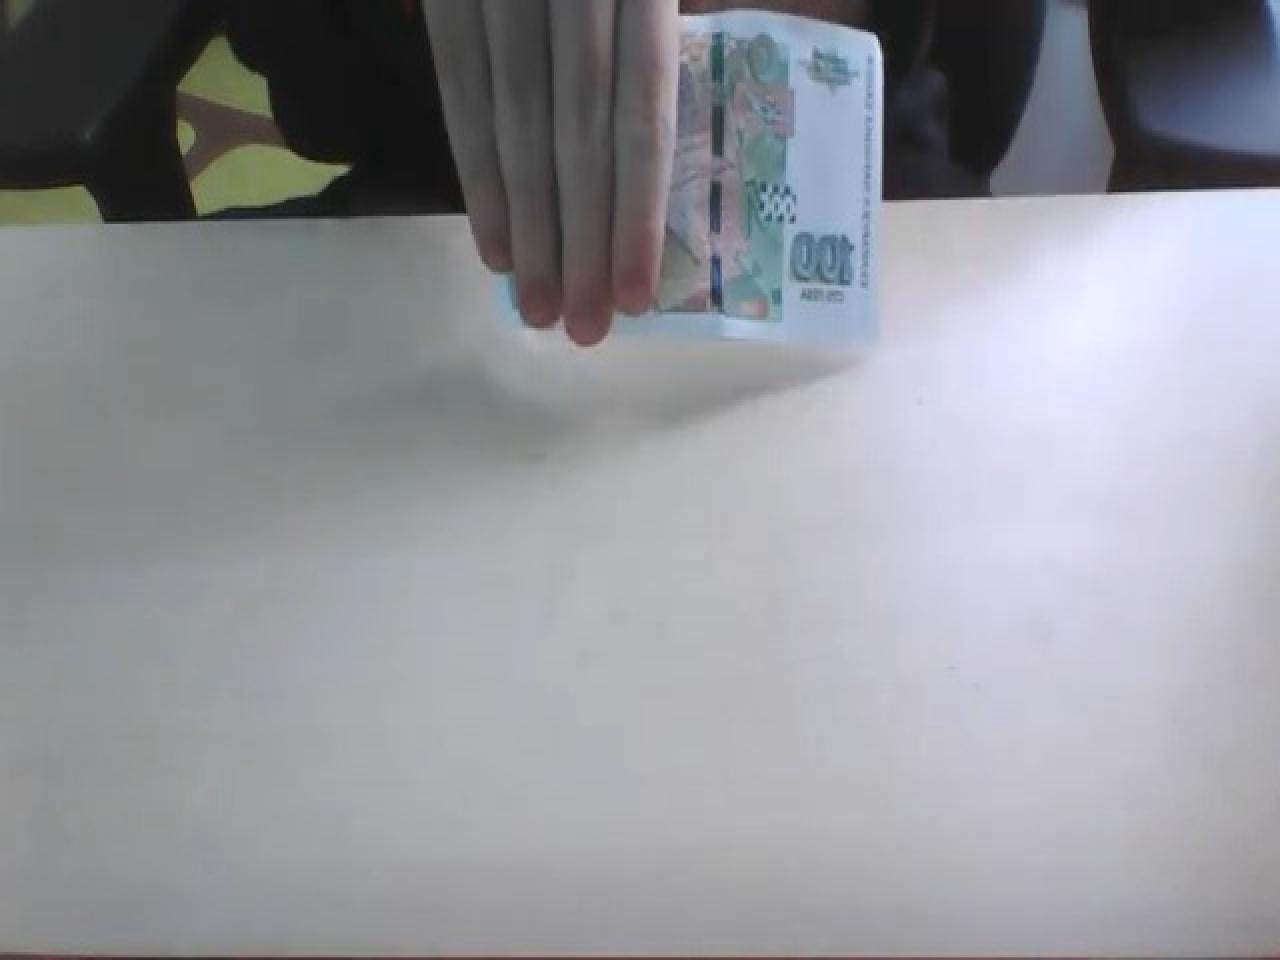100leva: (790, 227, 858, 288)
